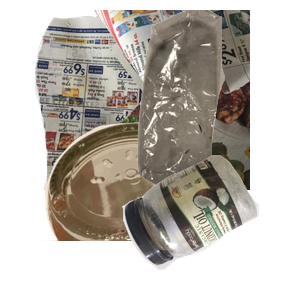glass: (22, 120, 233, 300)
paper: (32, 10, 272, 190)
plastic: (120, 152, 300, 300)
trash: (114, 10, 300, 190)
